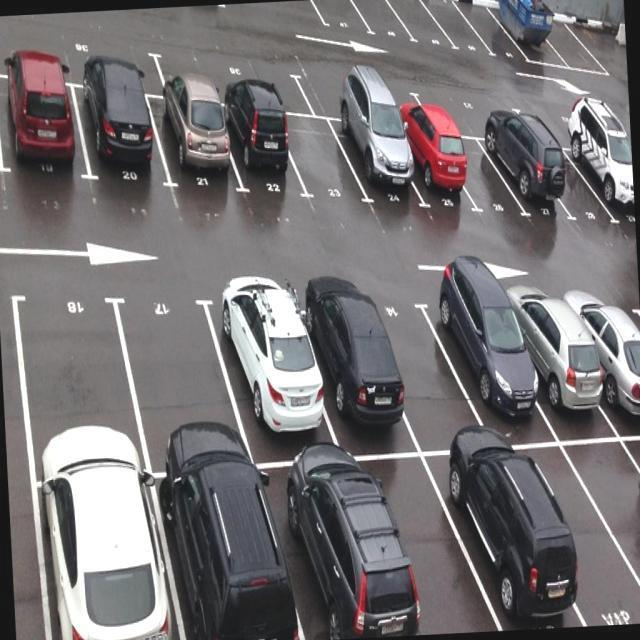space-empty: (381, 455, 486, 636), (529, 444, 627, 625), (22, 288, 128, 437), (139, 281, 220, 474), (571, 418, 640, 626), (381, 298, 458, 454), (159, 39, 304, 120), (0, 16, 150, 90), (288, 112, 355, 216), (450, 123, 508, 233), (533, 127, 599, 221), (311, 71, 416, 121), (522, 96, 622, 143), (460, 0, 526, 71), (425, 0, 486, 68), (386, 0, 450, 61), (345, 0, 406, 55), (424, 96, 522, 124), (309, 1, 360, 41)
space-occupied: (40, 474, 171, 640), (455, 449, 557, 631), (179, 470, 274, 640), (278, 474, 372, 640), (230, 280, 306, 448), (445, 289, 523, 451), (82, 76, 167, 216), (520, 277, 593, 439), (2, 71, 76, 216), (319, 289, 382, 447), (580, 282, 640, 440), (156, 94, 232, 213), (223, 96, 293, 215), (341, 106, 411, 216), (490, 129, 561, 229), (406, 115, 462, 224), (575, 134, 635, 222)
